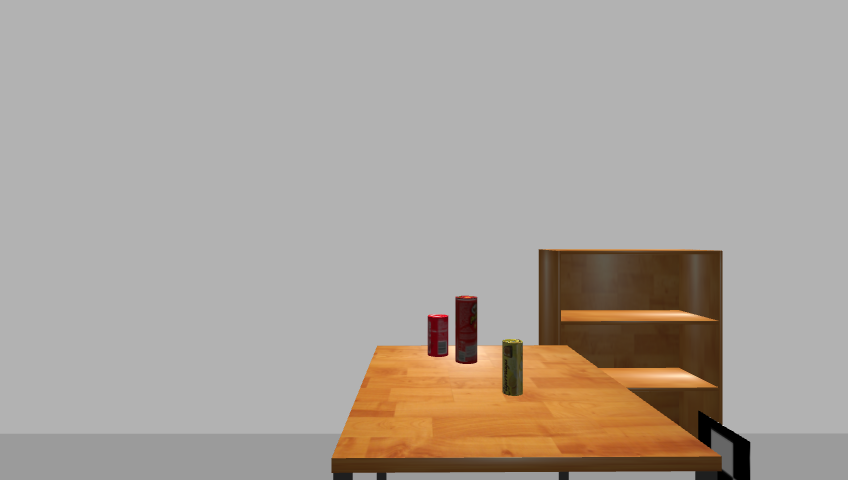aruco marker: (692, 410, 755, 480)
biscuits pack: (501, 339, 523, 398)
bookshelf: (534, 246, 730, 480)
coke can: (425, 314, 449, 359)
dinner table: (329, 345, 723, 480)
pringles can: (452, 295, 480, 366)
